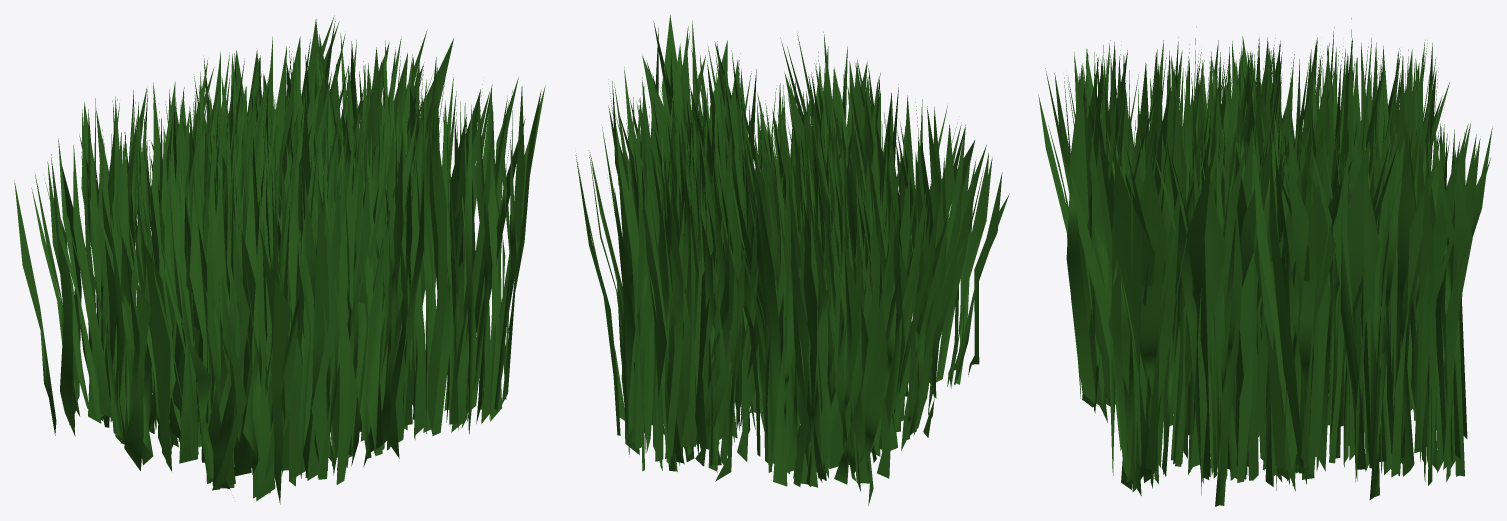
Rendered from simple_grass.glb.
3 views of the same model, side by side, from view 1: azimuth 30°, elevation 25°; view 2: azimuth 150°, elevation 25°; view 3: azimuth 270°, elevation 25° (orthographic). The views are drawn at different scales.
Visible parts, largest first — view 1: Plane.003_0; view 2: Plane.003_0; view 3: Plane.003_0.
Boxes of the visible parts, x1=… form: Plane.003_0: x1=14, y1=15, x2=545, y2=504; Plane.003_0: x1=575, y1=15, x2=1009, y2=505; Plane.003_0: x1=1038, y1=18, x2=1492, y2=506.
Bounding box in the file's own units: 3.65 × 3.23 × 3.26.
